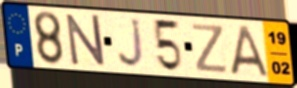5: (149, 16, 184, 74)
8: (33, 10, 65, 67)
A: (229, 24, 270, 78)
J: (116, 17, 147, 70)
N: (64, 13, 108, 68)
Z: (190, 22, 230, 75)
